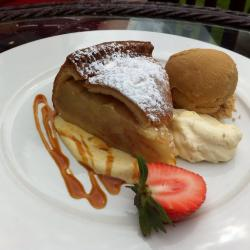apple_pie: (48, 32, 181, 168)
icecream: (168, 43, 240, 120)
